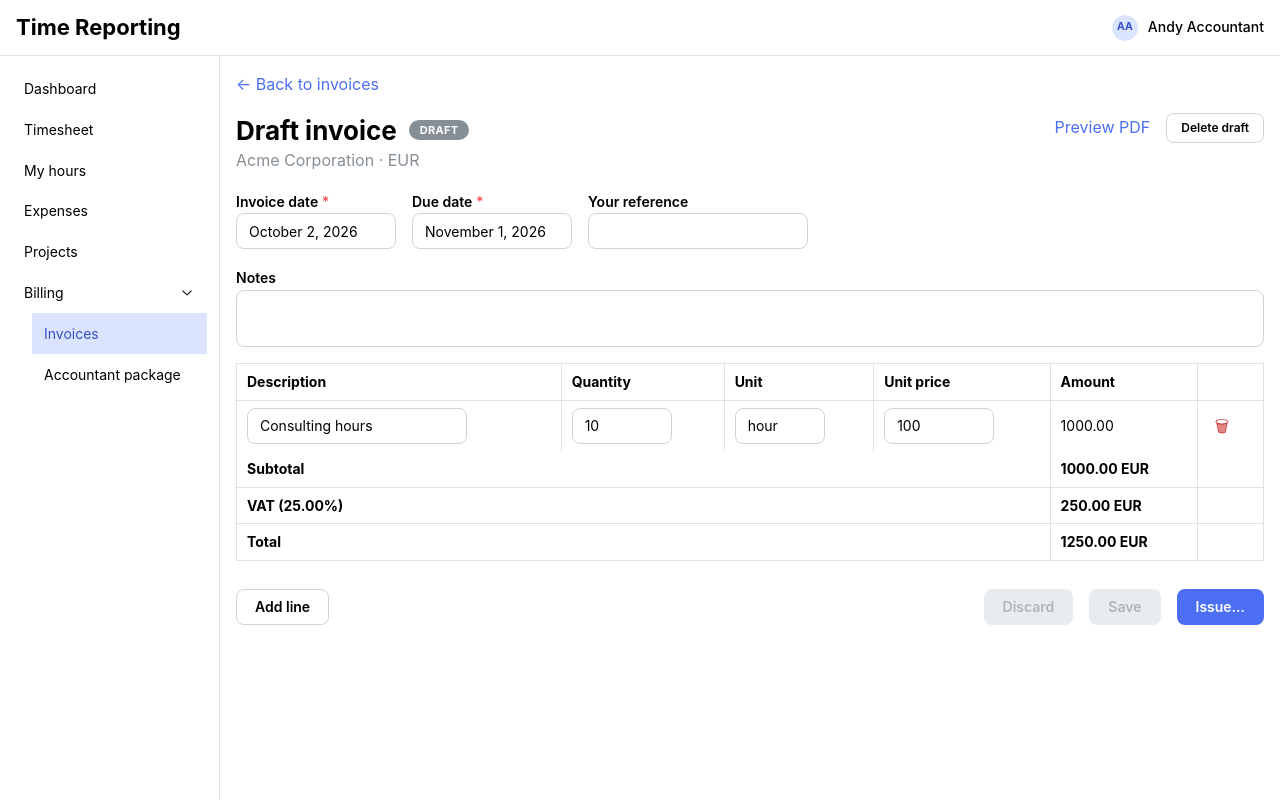
it: InvoicePage › asks for confirmation before discarding unsaved changes when leaving
Replace the text in the field named "Description" with "Changed" at (357, 426), box [247,408,467,444]
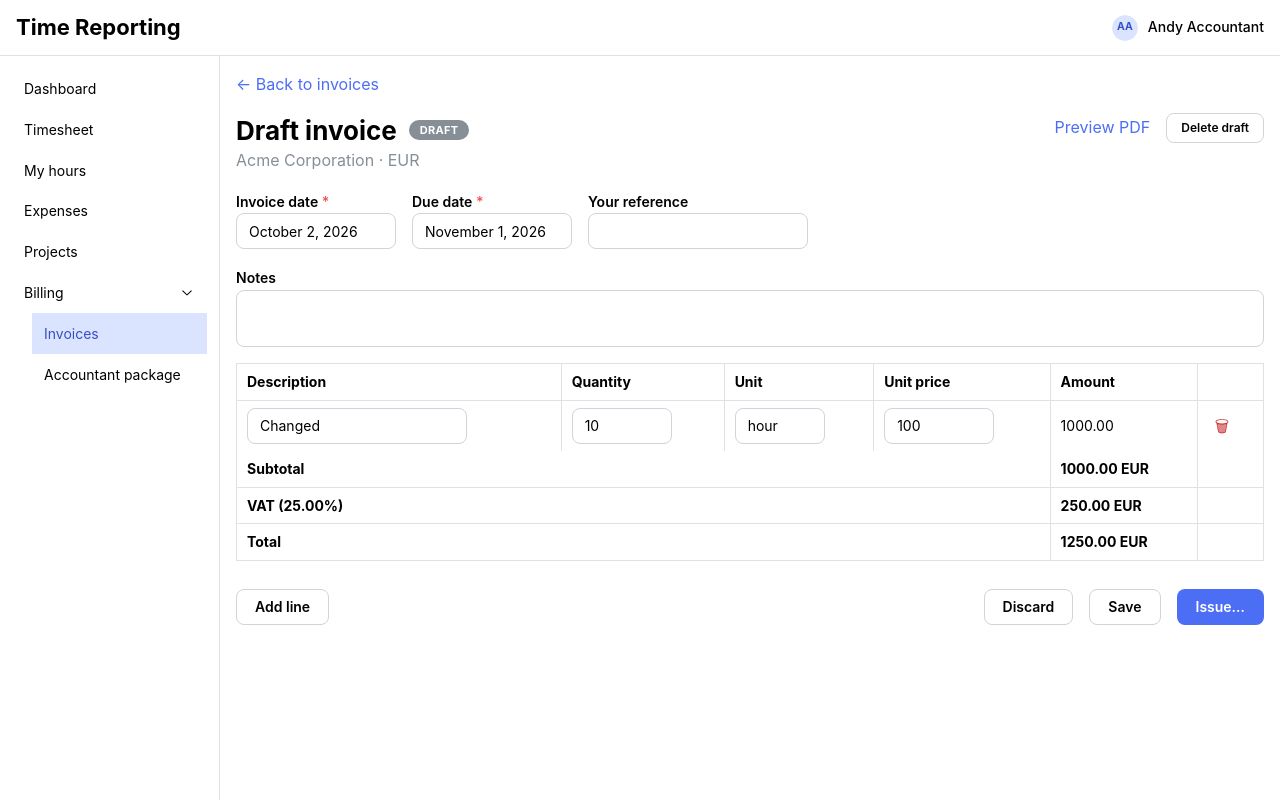
Click the button "← Back to invoices" at (308, 84), box [236,72,379,97]
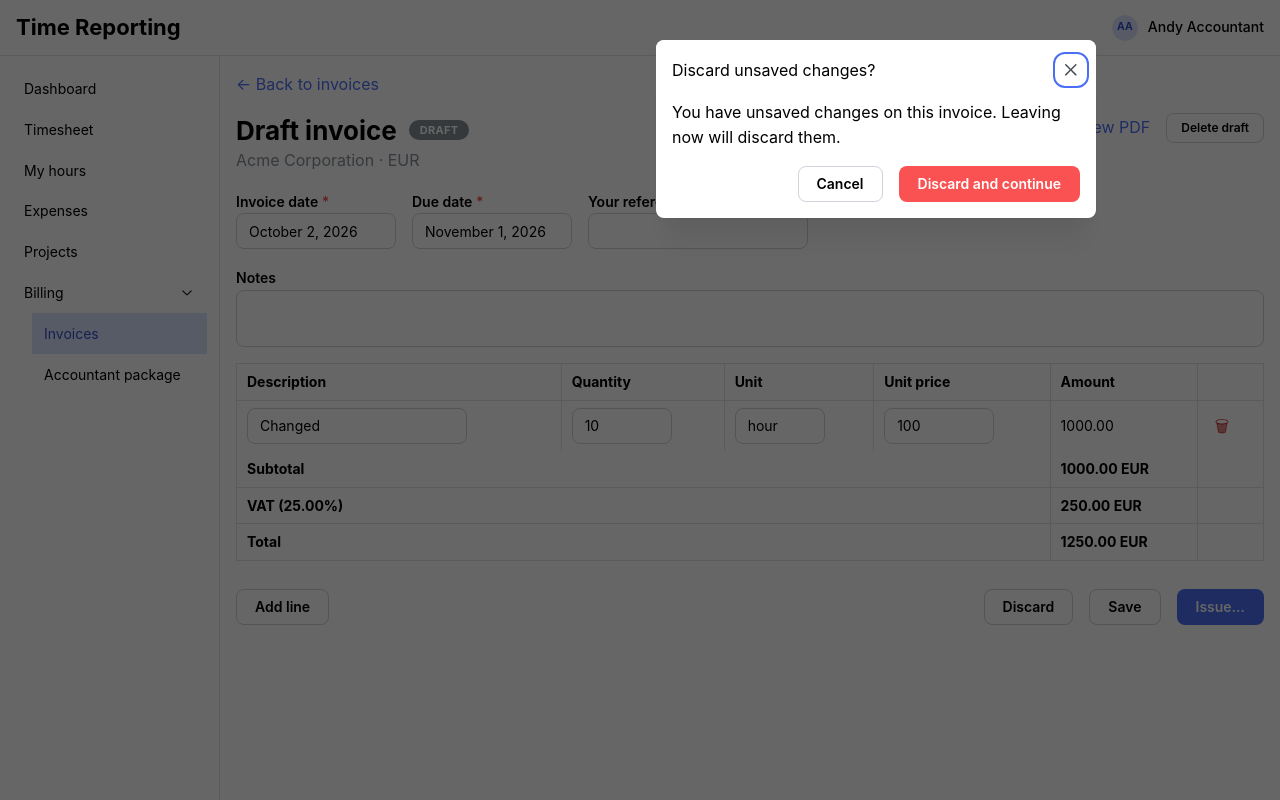
expect the heading "Discard unsaved changes?" is shown: met, box [672,62,875,78]
